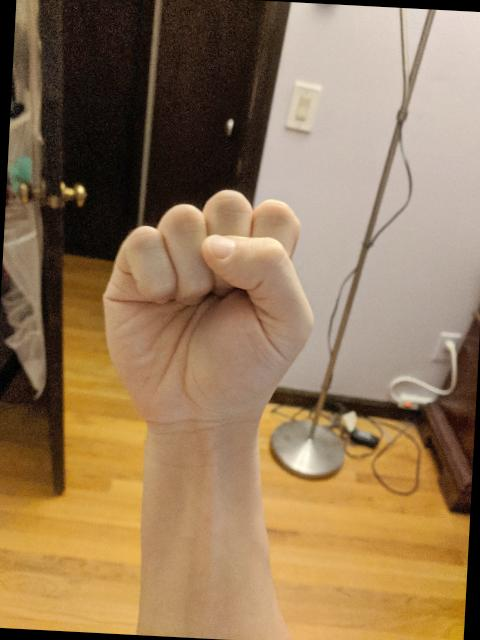S: (92, 177, 326, 436)
